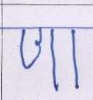aa_matra: (74, 52, 78, 87)
